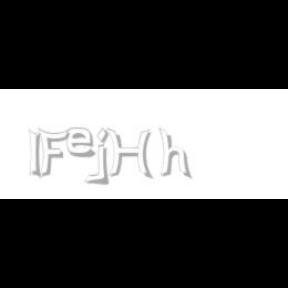F: (37, 128, 69, 178)
H: (107, 128, 153, 180)
I: (28, 128, 42, 180)
e: (66, 128, 100, 158)
h: (159, 128, 194, 180)
j: (94, 128, 124, 186)
